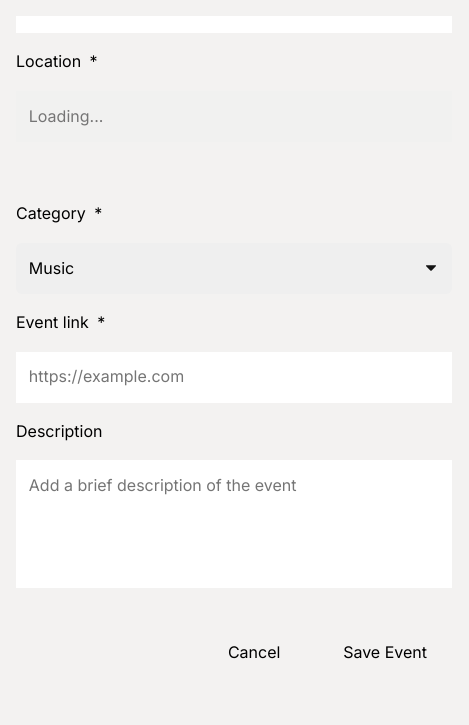
Test: EventModal Component › validates the form and shows errors for invalid inputs
(page scrolled)
What coordinates should you click on to do the following:
click the button "Save Event"
I would click on:
 (385, 653)
Its box is [318,630,452,676].
(page scrolled)
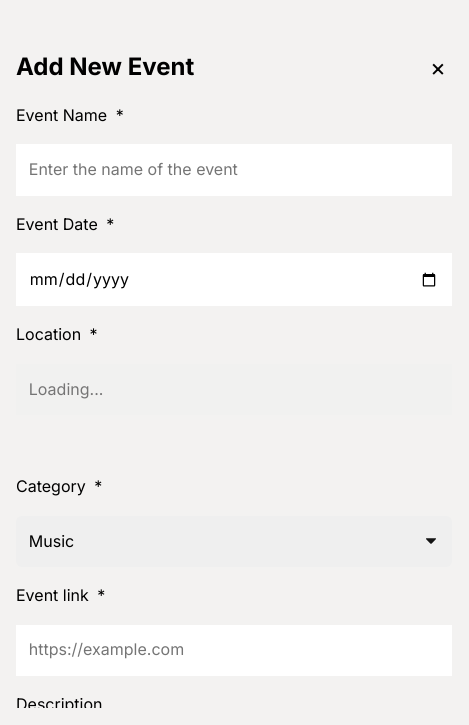
Now the text "Event Name" is shown, box [16,105,107,125]
